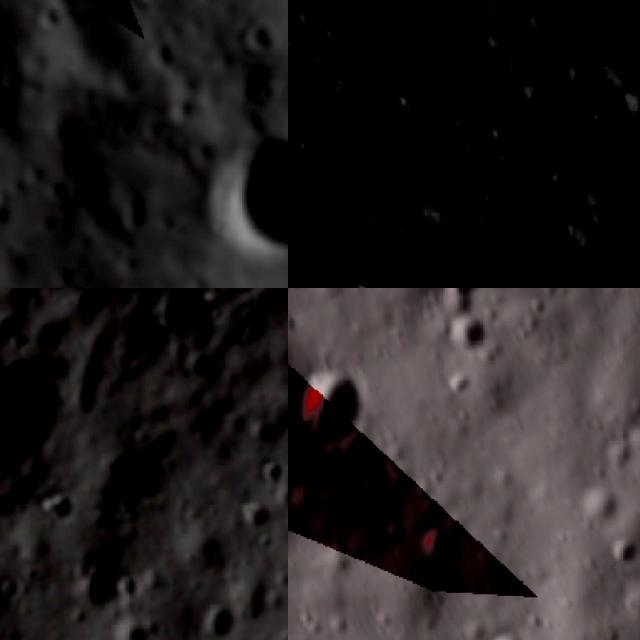crater: (208, 120, 288, 268), (0, 347, 68, 499), (288, 365, 368, 452), (0, 11, 31, 147), (71, 553, 122, 617), (144, 288, 203, 343), (441, 312, 492, 370), (305, 183, 353, 227), (239, 12, 281, 61), (418, 522, 460, 570), (193, 599, 239, 640), (234, 498, 276, 542), (38, 486, 86, 523), (603, 84, 640, 125), (602, 533, 640, 572), (0, 303, 30, 351), (112, 565, 144, 607), (433, 288, 493, 309), (114, 612, 155, 640), (205, 288, 271, 305), (257, 458, 288, 489), (266, 482, 288, 522), (0, 573, 23, 606), (479, 628, 539, 640), (0, 203, 21, 234), (252, 530, 276, 556), (341, 280, 381, 288)
